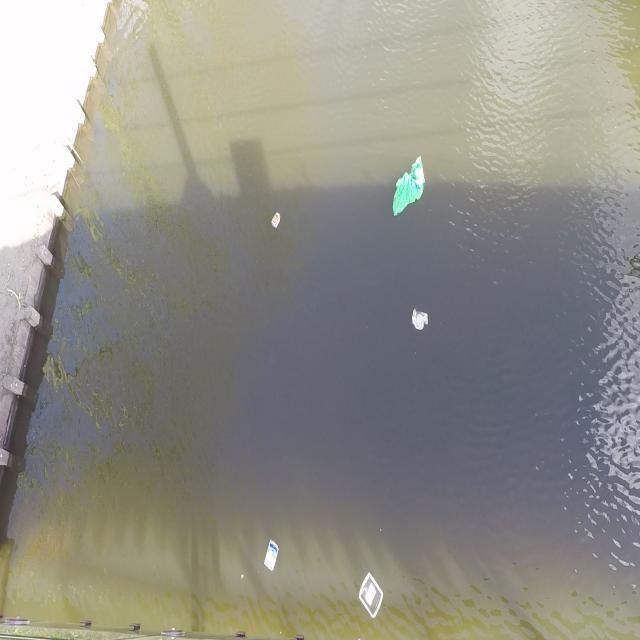Autre plastique: (358, 568, 385, 623), (259, 535, 280, 580)
Non plastique: (268, 209, 284, 234)
Sac plastique: (388, 149, 428, 226), (410, 301, 430, 339)
